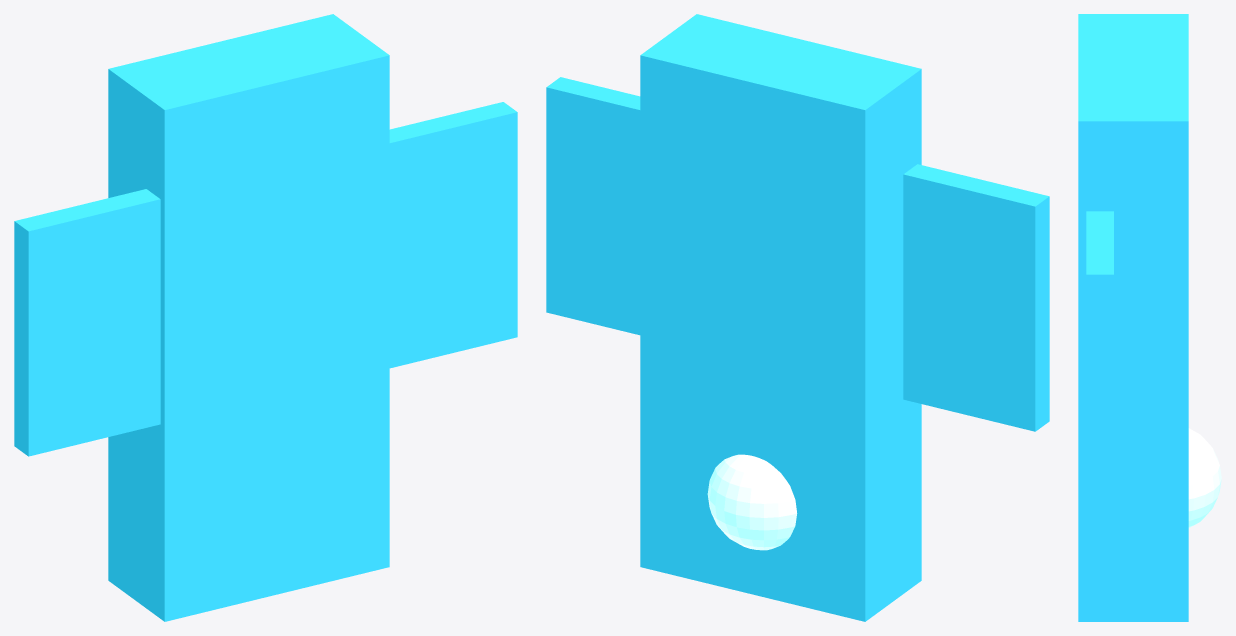
The model's file is wingman_drone.glb.
3 views of the same model, side by side, from view 1: azimuth 30°, elevation 25°; view 2: azimuth 150°, elevation 25°; view 3: azimuth 270°, elevation 25° (orthographic). The views are drawn at different scales.
Parts seen in each view (by area): view 1: body, wing; view 2: body, wing, eye; view 3: body, wing, eye.
Part boxes in pixels (<box>): body: <box>108,14,389,621</box>; wing: <box>14,102,517,456</box>; body: <box>640,14,921,621</box>; wing: <box>546,77,1049,431</box>; eye: <box>707,454,797,550</box>; body: <box>1078,14,1188,621</box>; wing: <box>1086,211,1113,494</box>; eye: <box>1188,428,1221,527</box>.
Size of the model in its own units: 1 by 1 by 0.26.
